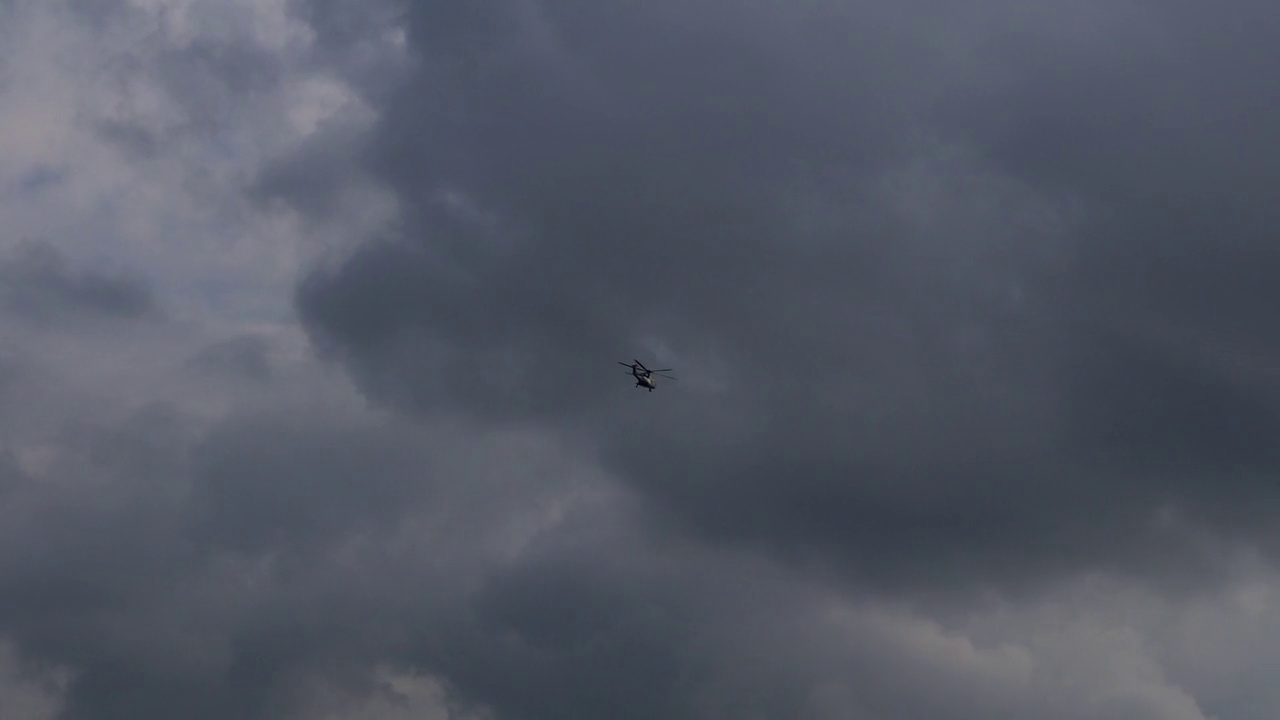heli: (620, 358, 677, 393)
